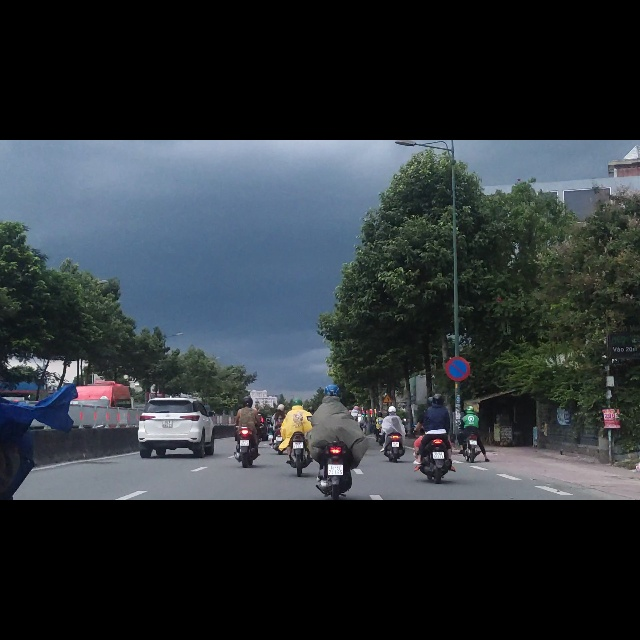bien_hieu_lenh: (445, 385, 470, 430), (383, 451, 392, 468)
